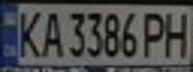3: (81, 8, 106, 59), (63, 8, 87, 59)
6: (118, 9, 145, 58)
8: (103, 9, 124, 58)
A: (36, 7, 66, 58)
H: (157, 8, 193, 59)
K: (12, 6, 45, 60)
P: (139, 8, 172, 59)
